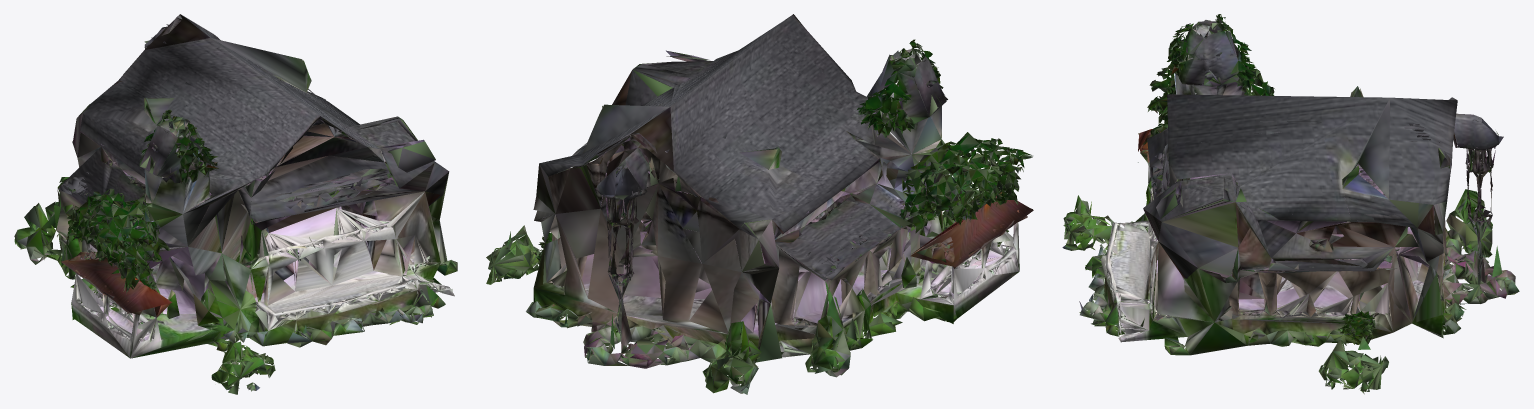
File: house_town.glb
3 renders of one model, left to right at view 1: azimuth 30°, elevation 25°; view 2: azimuth 150°, elevation 25°; view 3: azimuth 270°, elevation 25°, orthographic. The views are drawn at different scales.
Visible parts, largest first — view 1: house; view 2: house; view 3: house.
Part boxes in pixels (x1,y1,x2,y2): house: [14, 14, 457, 394]; house: [486, 14, 1033, 394]; house: [1062, 14, 1519, 394].
Bounding box in the file's own units: 1.9 × 1.06 × 1.87.
1 material, 1 textured.
